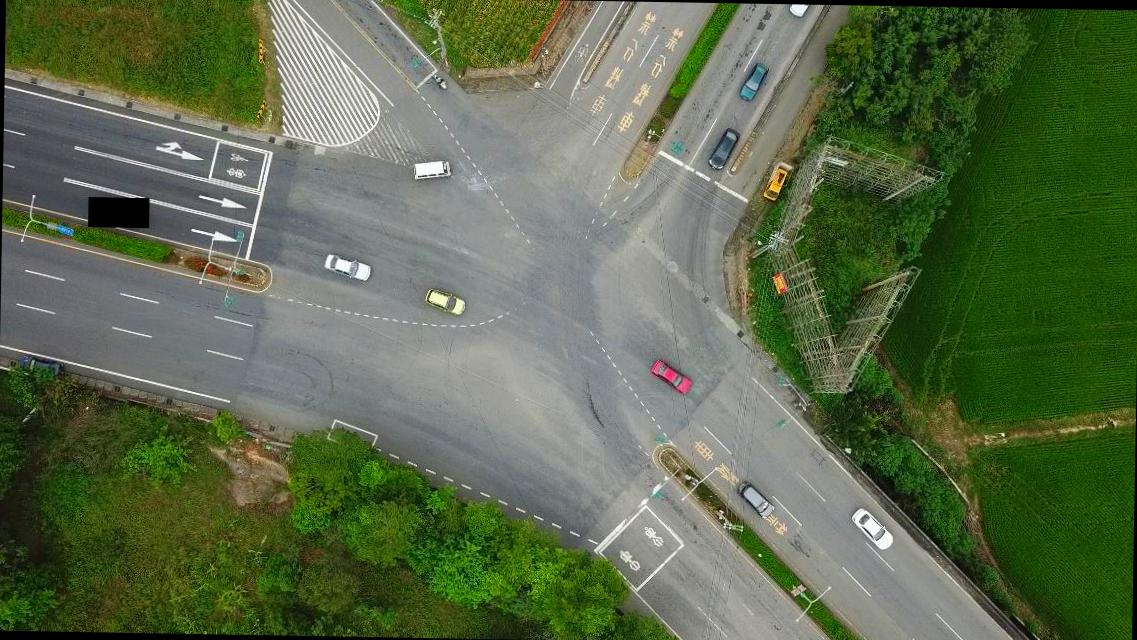vehicle: (852, 507, 895, 553), (322, 250, 376, 282), (706, 127, 740, 170), (650, 361, 694, 394), (736, 482, 774, 519), (18, 356, 62, 382), (738, 62, 768, 100), (426, 286, 466, 314), (412, 159, 452, 183), (764, 167, 788, 200), (787, 5, 810, 18)
